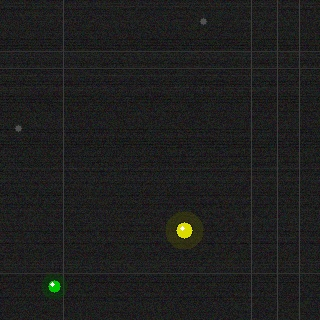green_normal: (46, 278, 62, 294)
yellow_warning: (174, 220, 194, 240)
